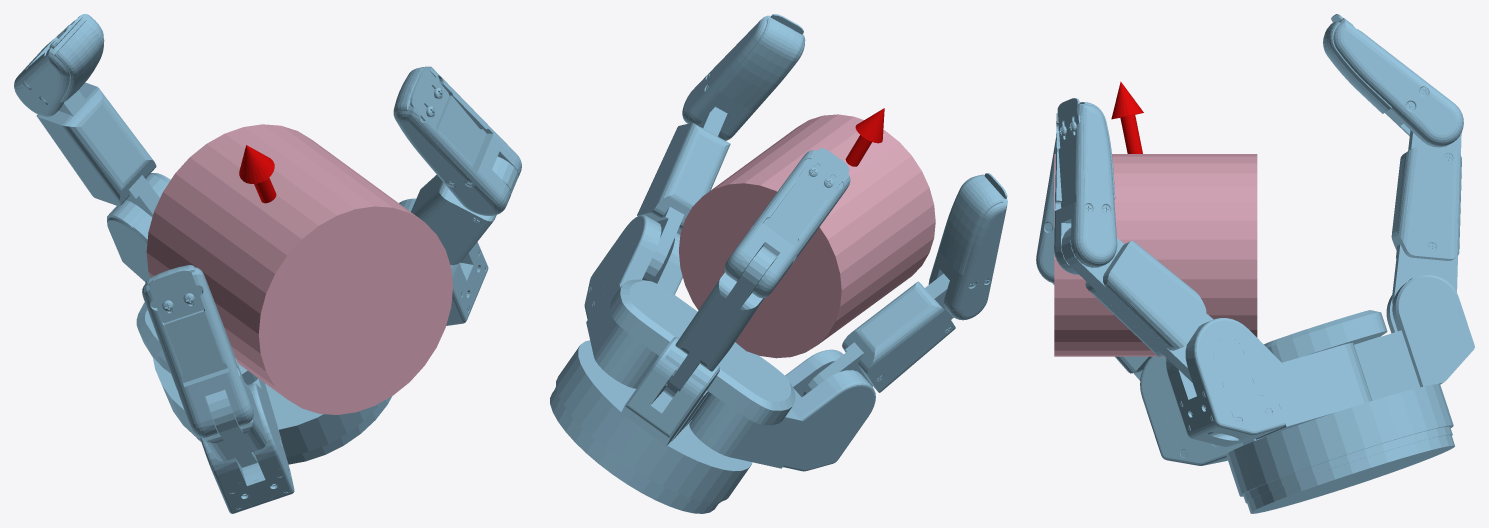
3 views of the same model, side by side, from view 1: azimuth 30°, elevation 25°; view 2: azimuth 150°, elevation 25°; view 3: azimuth 270°, elevation 25° (orthographic). The views are drawn at different scales.
Parts seen in each view (by area): view 1: world, cylinder_medium.stl; view 2: world, cylinder_medium.stl; view 3: world, cylinder_medium.stl.
Part boxes in pixels (x1,y1,x2,y2): world: (14,14,521,513); cylinder_medium.stl: (146,124,452,414); world: (550,14,1007,513); cylinder_medium.stl: (679,114,935,358); world: (1036,14,1474,513); cylinder_medium.stl: (1054,154,1257,356).
Bounding box in the file's own units: 0.1729 × 0.1859 × 0.173.
